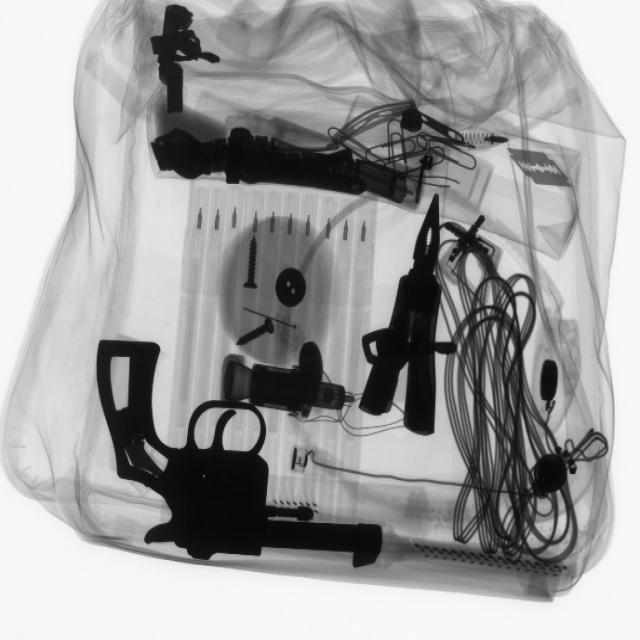BLADE: (505, 140, 578, 195)
GUN: (93, 334, 392, 568)
SCREW: (228, 228, 278, 296), (228, 306, 283, 355)
